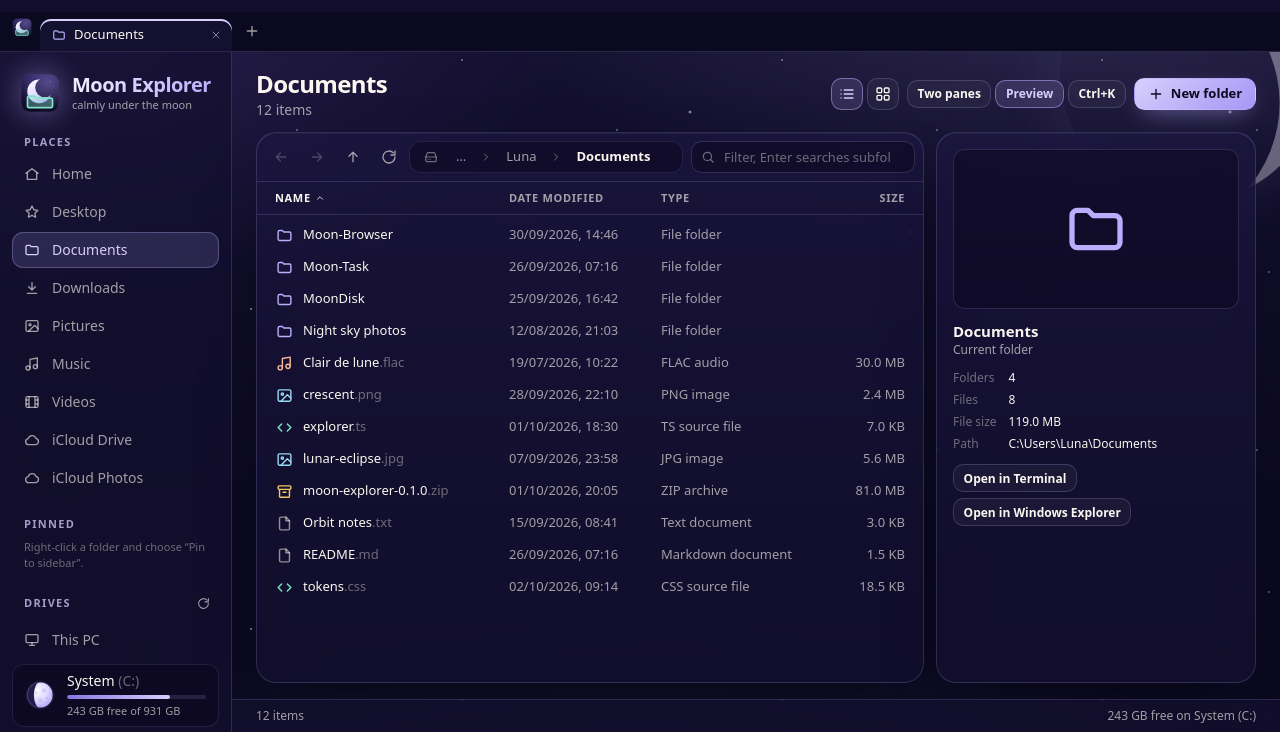
Scenario: App › opens a folder on double-click and goes back
Double-click the row "Night sky photos 12/08/2026, 21:03 File folder".
double_click(355, 330)  # box [276,321,722,340]
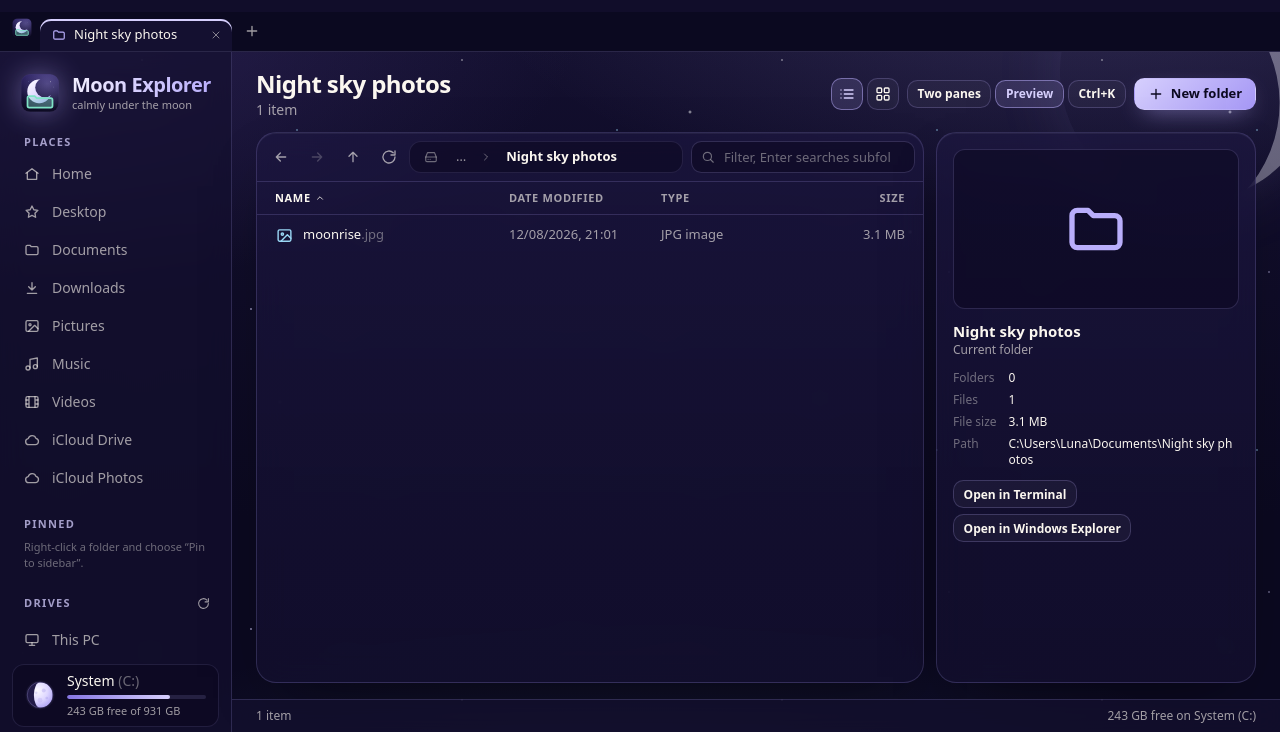
Now the 1st heading "Night sky photos" is shown, box [256,68,451,100]
Click the button named "Back".
click(281, 157)  # box [265,141,297,173]
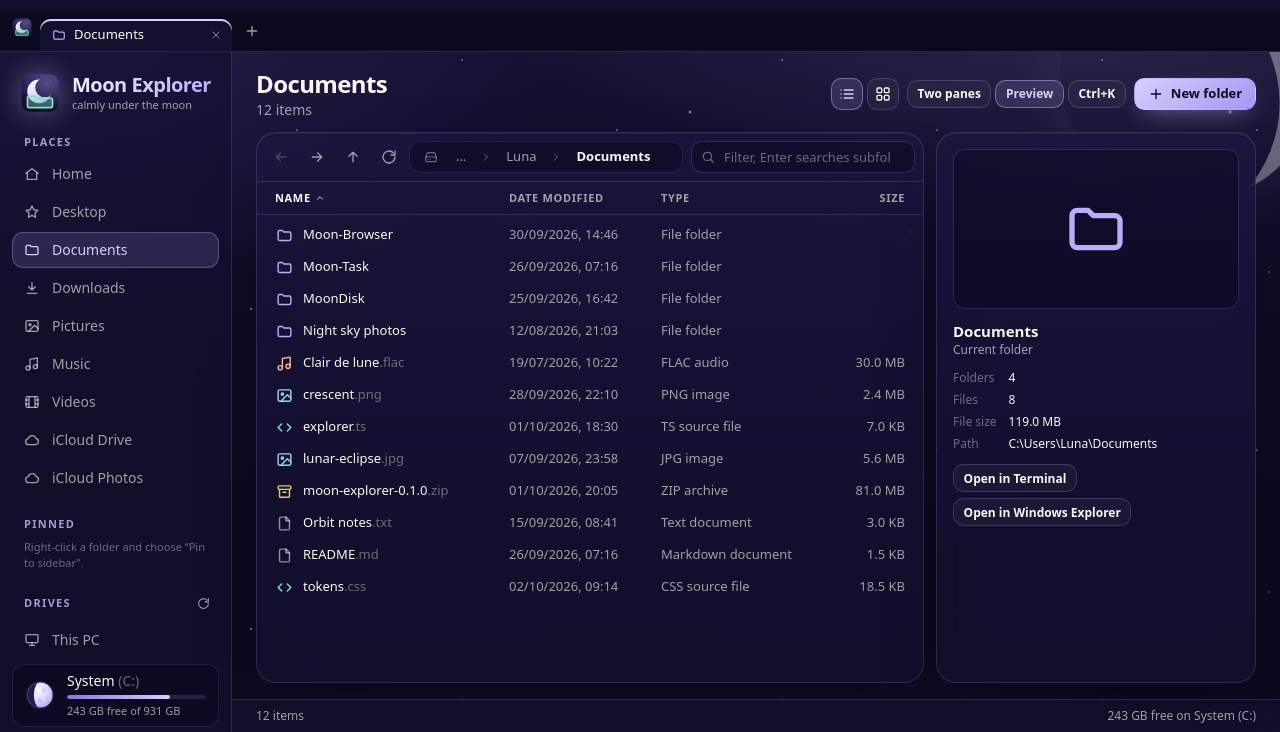
Now the 1st heading "Documents" is shown, box [256,68,387,100]
